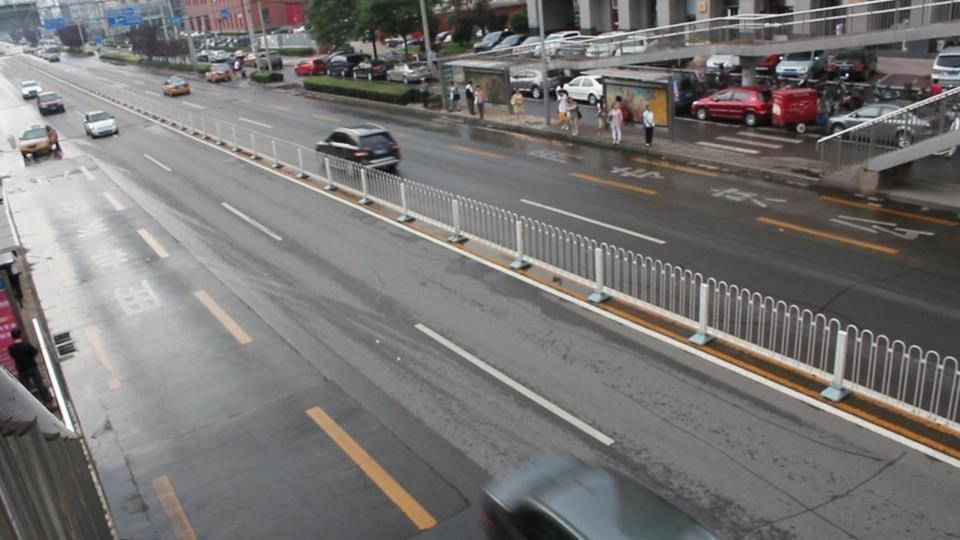car: (477, 452, 719, 538), (314, 125, 402, 172), (691, 87, 774, 126), (826, 102, 909, 134), (509, 66, 569, 99), (774, 49, 827, 84), (811, 51, 869, 82), (16, 125, 62, 164), (930, 46, 960, 90), (561, 76, 605, 104), (472, 31, 526, 53), (386, 62, 437, 84), (82, 110, 119, 139), (705, 54, 743, 79), (350, 59, 388, 81), (37, 91, 66, 115), (161, 76, 191, 97), (206, 66, 235, 84), (20, 79, 41, 101)
